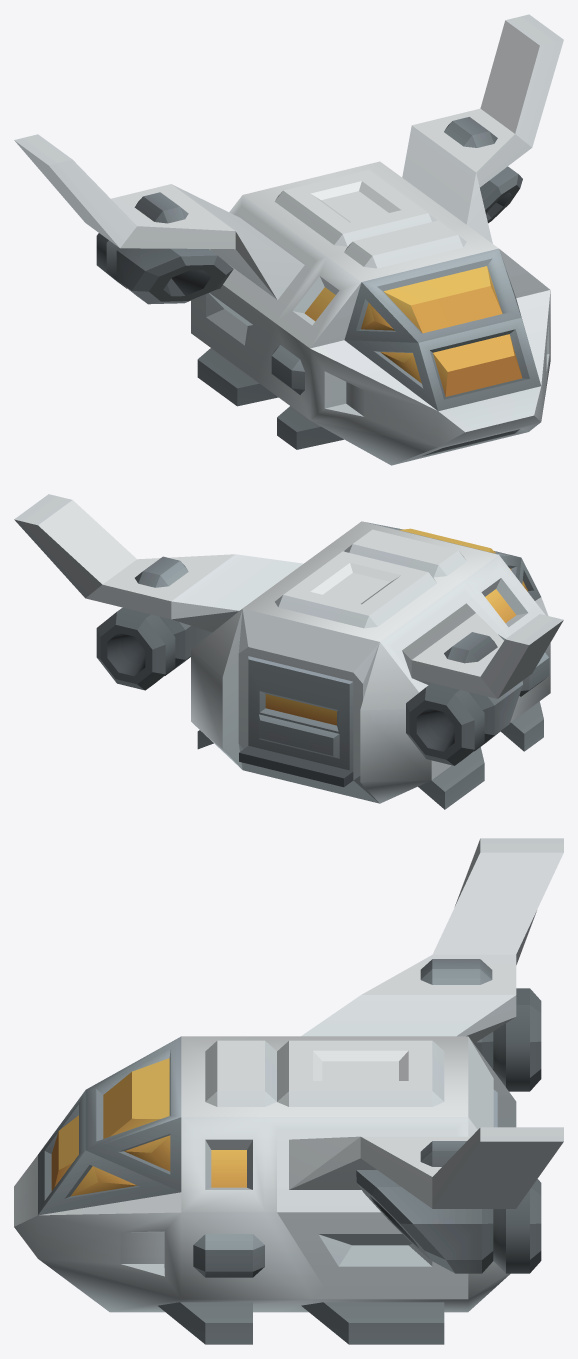
File: dropship.gltf
3 views of the same model, one above another, from view 1: azimuth 30°, elevation 25°; view 2: azimuth 150°, elevation 25°; view 3: azimuth 270°, elevation 25° (orthographic). The views are drawn at different scales.
Parts seen in each view (by area): view 1: dropship, dropship_door_right, dropship_door_left; view 2: dropship, dropship_door_left, dropship_door_right; view 3: dropship, dropship_door_left, dropship_door_right.
Part boxes in pixels (x1,y1,x2,y2): dropship: (191, 161, 550, 465); dropship_door_right: (14, 134, 315, 367); dropship_door_left: (402, 14, 563, 243); dropship: (191, 521, 550, 809); dropship_door_left: (14, 494, 303, 690); dropship_door_right: (391, 592, 563, 767); dropship: (14, 1036, 516, 1344); dropship_door_left: (277, 1127, 563, 1288); dropship_door_right: (301, 838, 563, 1091).
Size of the model in its own units: 3 by 1.3 by 2.3.
Materials: 1 (1 with a texture image).
